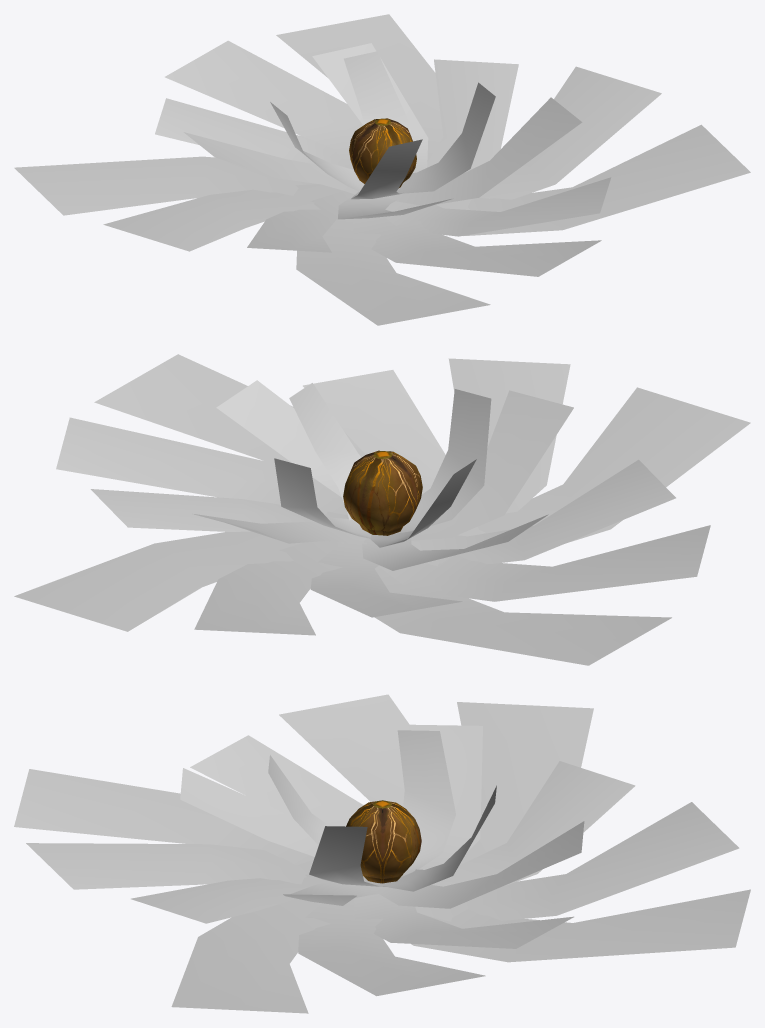
The model's file is Bug_farm_01_c.fbx.
The picture shows the model from 3 angles, top to bottom: view 1: azimuth 30°, elevation 25°; view 2: azimuth 150°, elevation 25°; view 3: azimuth 270°, elevation 25°; orthographic projection. The views are drawn at different scales.
Parts seen in each view (by area): view 1: Bug_farm_01_c; view 2: Bug_farm_01_c; view 3: Bug_farm_01_c.
Part boxes in pixels (bbox=[...]): Bug_farm_01_c: bbox=[14, 14, 750, 325]; Bug_farm_01_c: bbox=[14, 354, 750, 665]; Bug_farm_01_c: bbox=[14, 694, 750, 1013].
Bounding box in the file's own units: 19.11 × 4.24 × 19.11.
